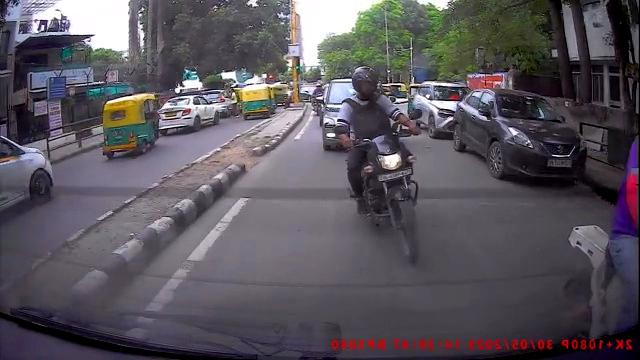motorcycle_with_helmet: (333, 64, 427, 265)
